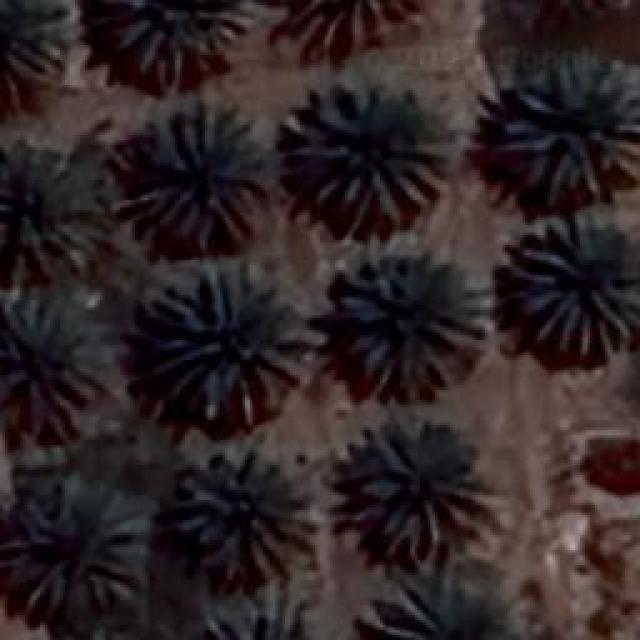PalmTree: (35, 44, 449, 609), (147, 260, 315, 425), (285, 78, 450, 232), (334, 248, 488, 400), (170, 442, 318, 580), (498, 54, 638, 198), (128, 100, 262, 250), (342, 420, 488, 555), (507, 212, 635, 360), (10, 490, 148, 612), (0, 140, 105, 282), (0, 292, 98, 426), (112, 0, 260, 88), (281, 0, 419, 50), (192, 607, 320, 640), (500, 0, 624, 27)
